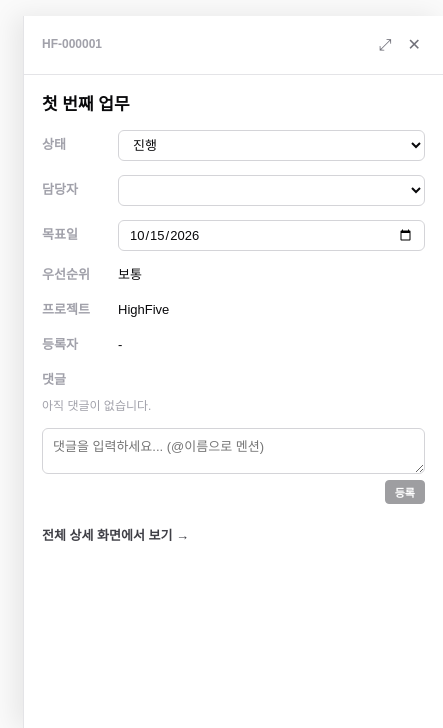
요약보기 패널 댓글 멘션 (HF-000067) › Enter로 첫 번째 사람을 고르고, Escape는 목록만 닫고 패널은 닫지 않는다
Expected: the heading "첫 번째 업무" is shown, x1=42 y1=95 x2=130 y2=114
Type "@홍" into the text box with placeholder "댓글을 입력하세요... (@이름으로 멘션)" at (234,451), box x1=42 y1=428 x2=425 y2=474
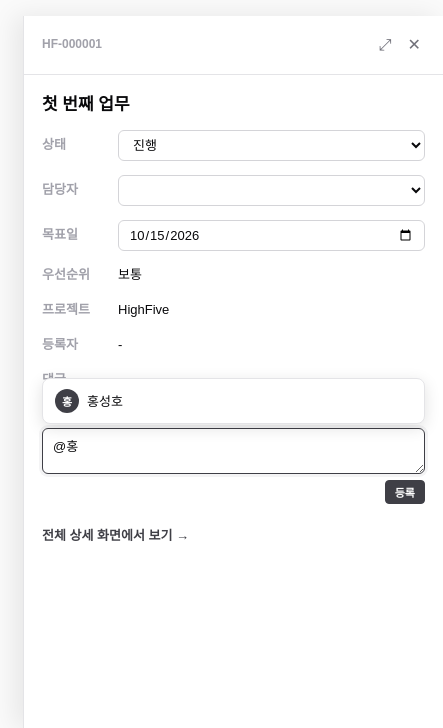
Now the option "홍 홍성호" is shown, box x1=47 y1=383 x2=420 y2=419
Press Enter
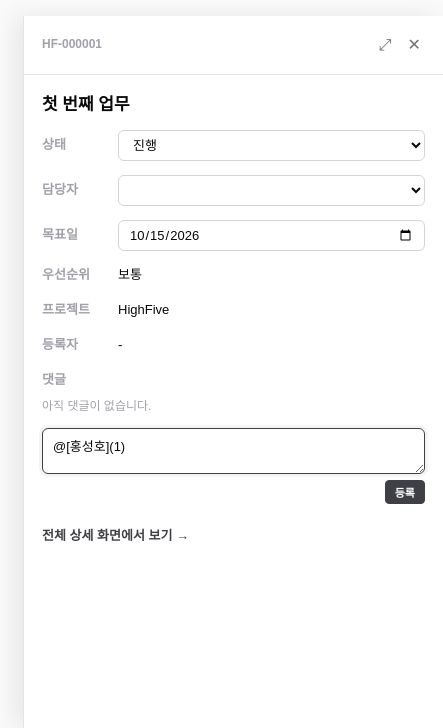
Now the text box with placeholder "댓글을 입력하세요... (@이름으로 멘션)" holds "@[홍성호](1) "
Type "@" into the text box with placeholder "댓글을 입력하세요... (@이름으로 멘션)" at (234,451), box x1=42 y1=428 x2=425 y2=474
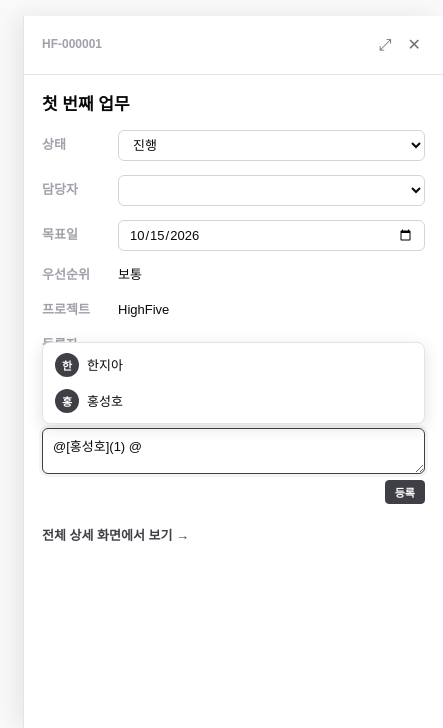
Now the list is shown, box x1=42 y1=342 x2=425 y2=424
Press Escape
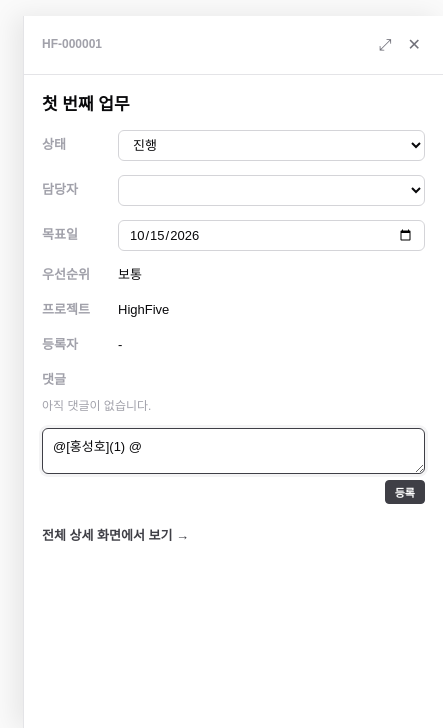
Now the list is gone
